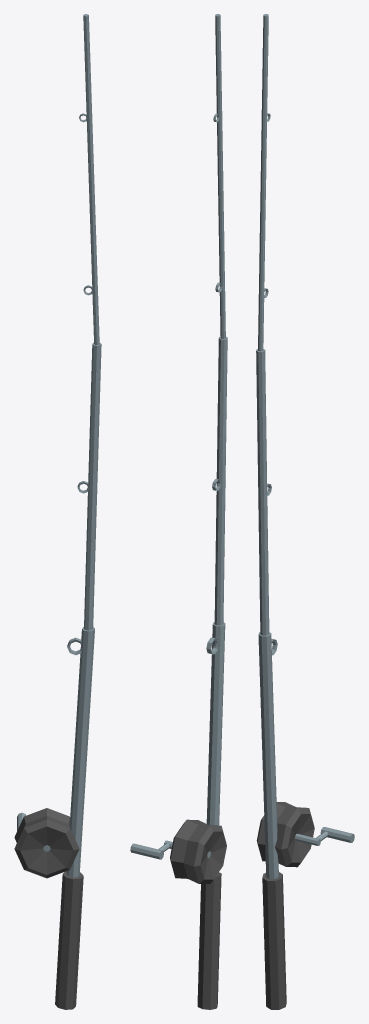
Rendered from fishing_rod.glb.
3 views of the same model, side by side, from view 1: azimuth 90°, elevation 25°; view 2: azimuth 150°, elevation 25°; view 3: azimuth 330°, elevation 25° (orthographic).
Parts seen in each view (by area): view 1: Fishing_Pole_Circle.001; view 2: Fishing_Pole_Circle.001; view 3: Fishing_Pole_Circle.001.
Part boxes in pixels (x1,y1,x2,y2): Fishing_Pole_Circle.001: (14,14,101,1009); Fishing_Pole_Circle.001: (130,14,227,1009); Fishing_Pole_Circle.001: (256,14,354,1009).
Size of the model in its own units: 2 by 27.49 by 2.19.
